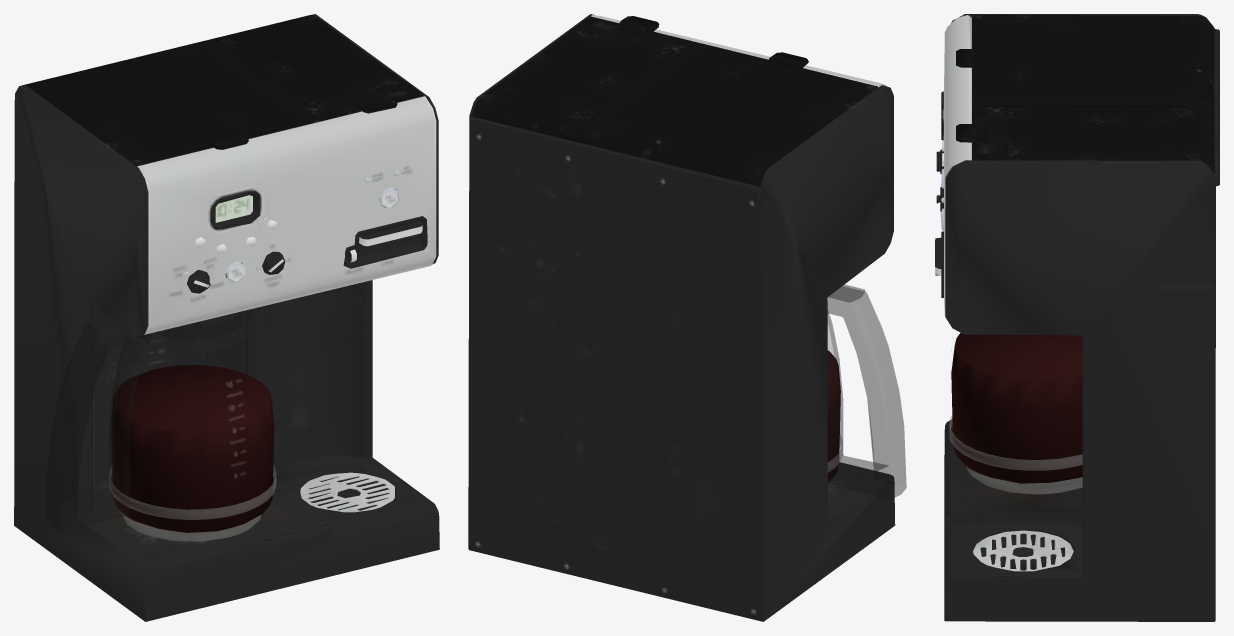
The model's file is coffee.glb.
3 renders of one model, left to right at view 1: azimuth 30°, elevation 25°; view 2: azimuth 150°, elevation 25°; view 3: azimuth 270°, elevation 25°, orthographic. The views are drawn at different scales.
Visible parts, largest first — view 1: Object_4, Object_2, Object_5; view 2: Object_4, Object_5, Object_2; view 3: Object_4, Object_2, Object_5.
Boxes of the visible parts, <box> form: Object_4: <box>14,14,439,621</box>; Object_2: <box>111,365,274,532</box>; Object_5: <box>46,310,275,531</box>; Object_4: <box>468,14,895,621</box>; Object_5: <box>827,284,906,499</box>; Object_2: <box>827,350,840,482</box>; Object_4: <box>935,14,1219,621</box>; Object_2: <box>951,333,1082,483</box>; Object_5: <box>949,416,1082,470</box>.
Size of the model in its own units: 0.2888 by 0.36 by 0.1998.
3 materials, 2 textured.
